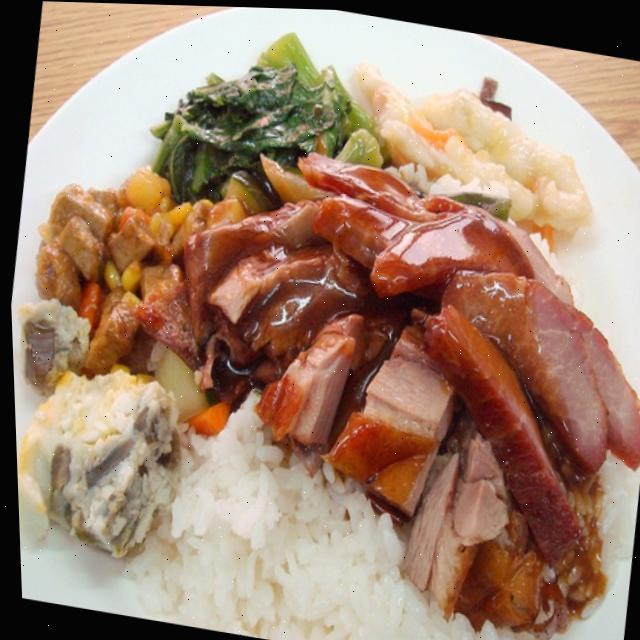米饭主食: (0, 7, 640, 640)
